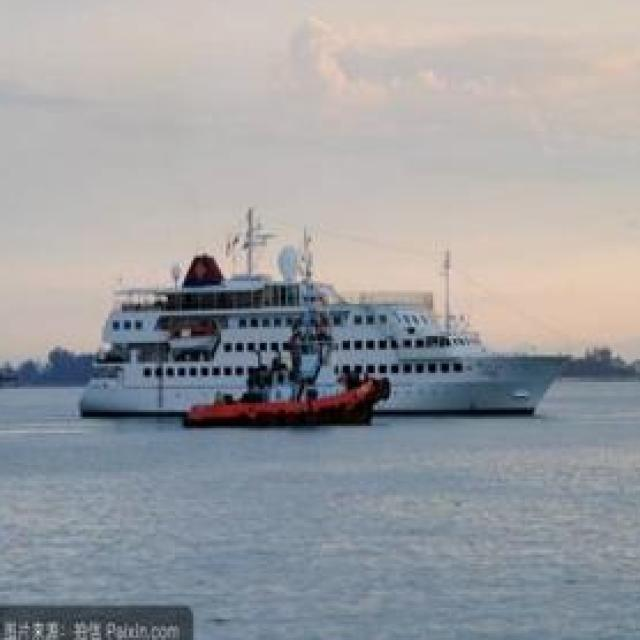houseboat: (185, 344, 388, 422)
passenger ship: (72, 261, 564, 415)
